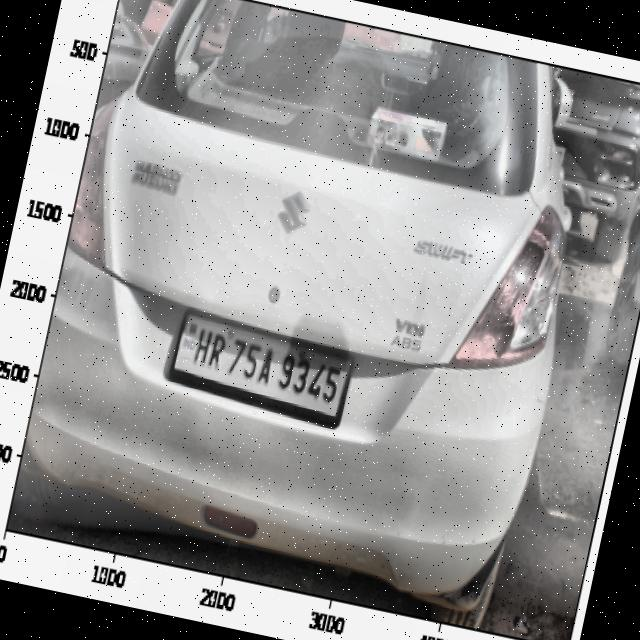license_plate: (180, 314, 352, 419)
